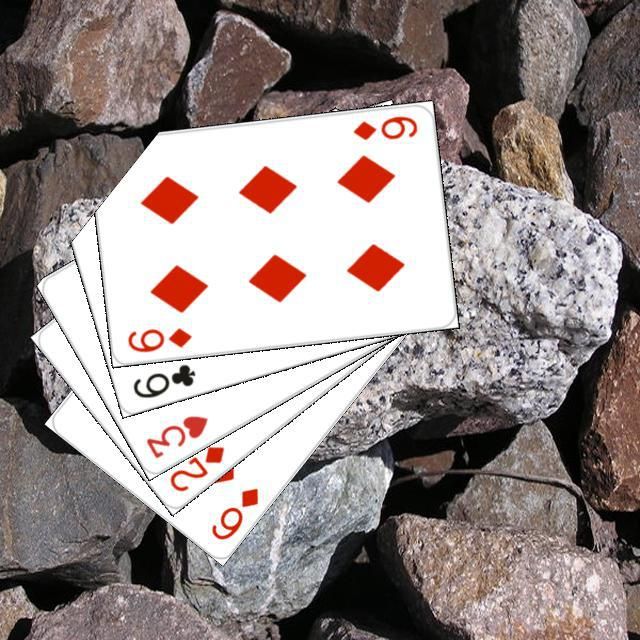2d: (164, 441, 227, 494)
3h: (141, 410, 210, 460)
6c: (128, 359, 197, 400)
6d: (206, 483, 261, 542), (122, 323, 194, 354), (348, 111, 420, 142)
